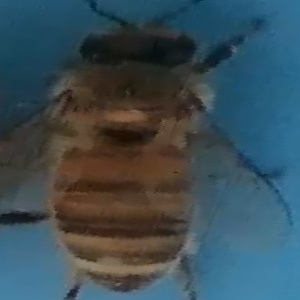bee: (2, 2, 292, 300)
